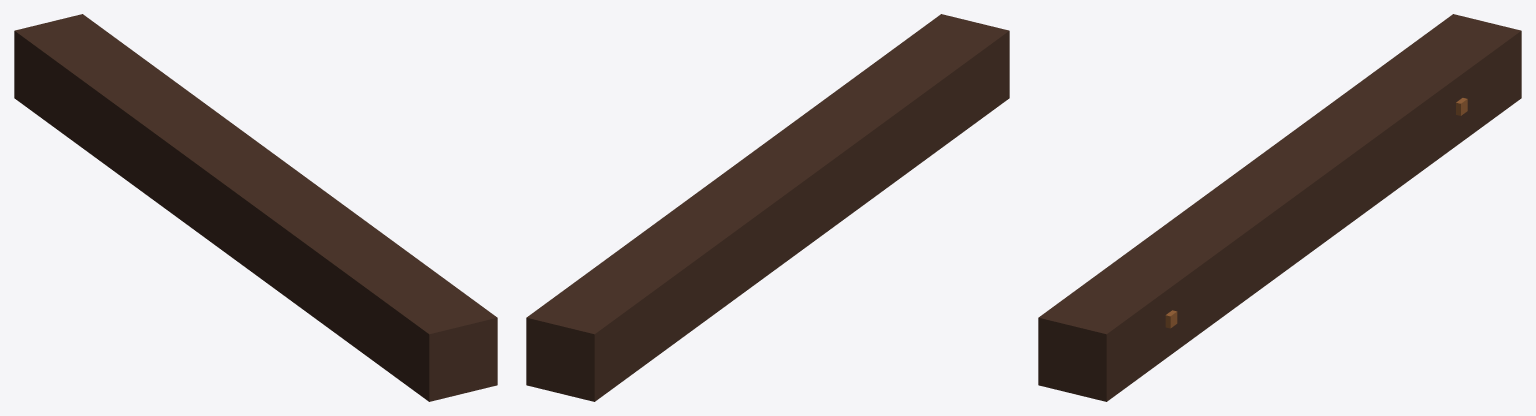
The model's file is CeilingBeam__Main.fbx.
3 views of the same model, side by side, from view 1: azimuth 30°, elevation 25°; view 2: azimuth 150°, elevation 25°; view 3: azimuth 330°, elevation 25° (orthographic).
Visible parts, largest first — view 1: CeilingBeam__Main; view 2: CeilingBeam__Main; view 3: CeilingBeam__Main.
Boxes of the visible parts, x1,y1,x2,y2 form: CeilingBeam__Main: (14, 14, 497, 401); CeilingBeam__Main: (526, 14, 1009, 401); CeilingBeam__Main: (1038, 14, 1521, 401).
Bounding box in the file's own units: 40.75 × 36 × 400.
1 material, 1 textured.
